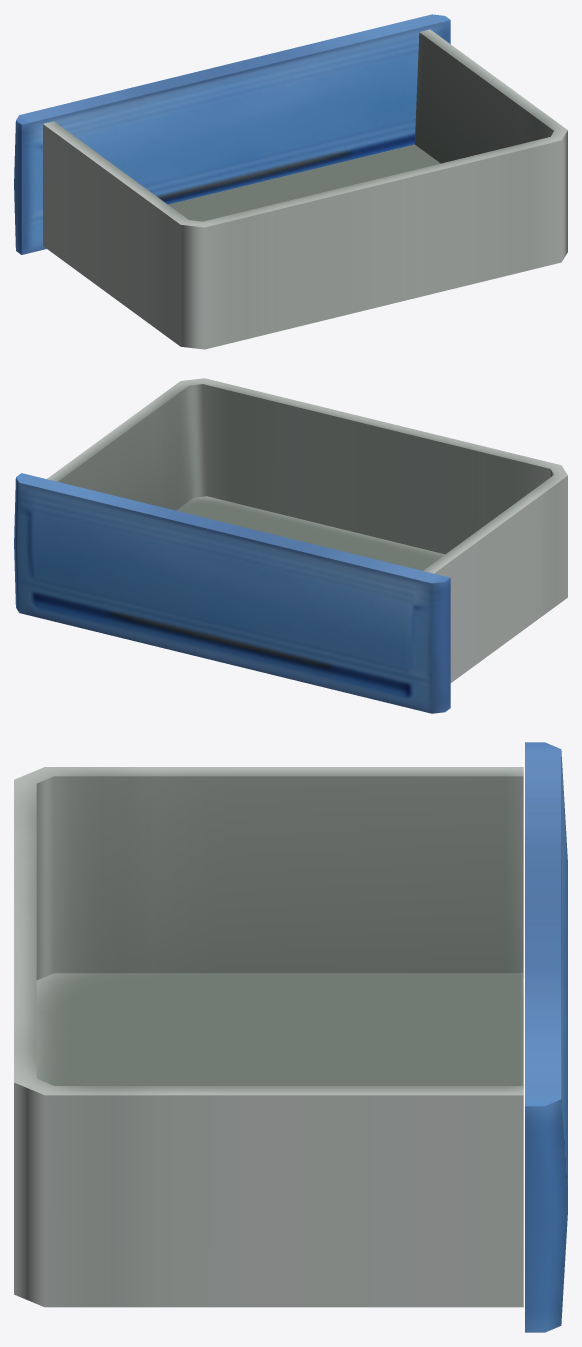
File: PlasticCabinet_Drawer_C.fbx
3 renders of one model, top to bottom at view 1: azimuth 30°, elevation 25°; view 2: azimuth 150°, elevation 25°; view 3: azimuth 270°, elevation 25°, orthographic. The views are drawn at different scales.
Parts seen in each view (by area): view 1: Drawer_C; view 2: Drawer_C; view 3: Drawer_C.
Boxes of the visible parts, box(x1,y1,x2,y2) form: Drawer_C: box(14, 14, 567, 349); Drawer_C: box(14, 378, 567, 713); Drawer_C: box(14, 742, 567, 1332).
Size of the model in its own units: 128 by 37.19 by 82.44.
1 material, 1 textured.
